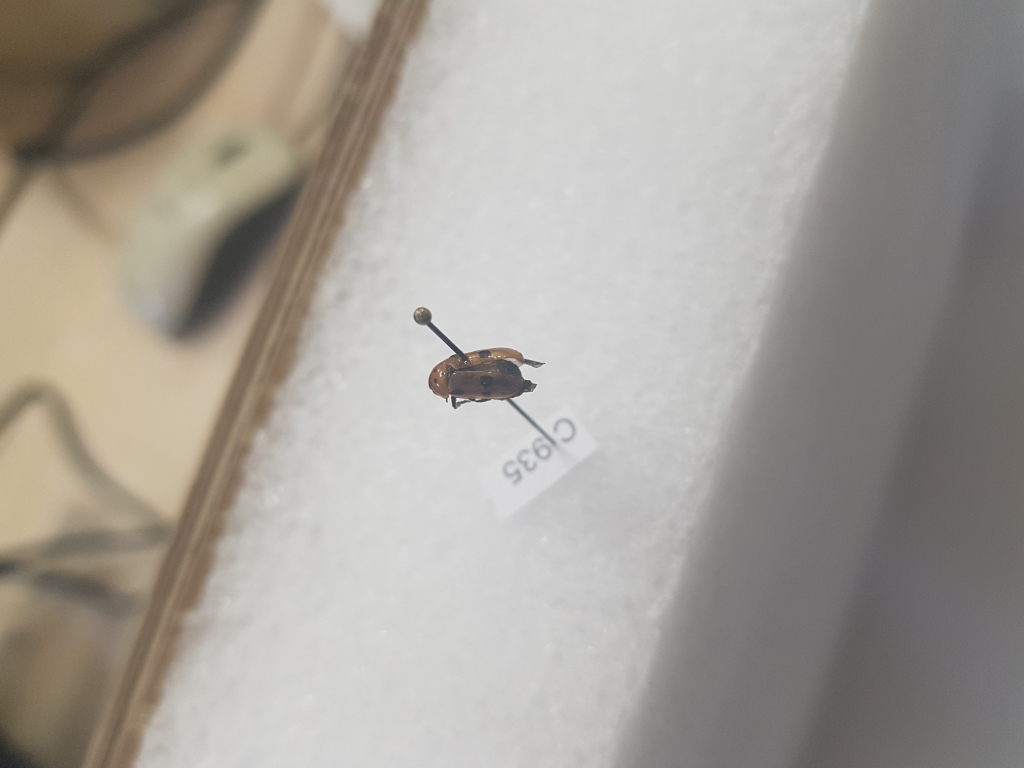Clytra_novempunctata: (426, 345, 546, 407)
